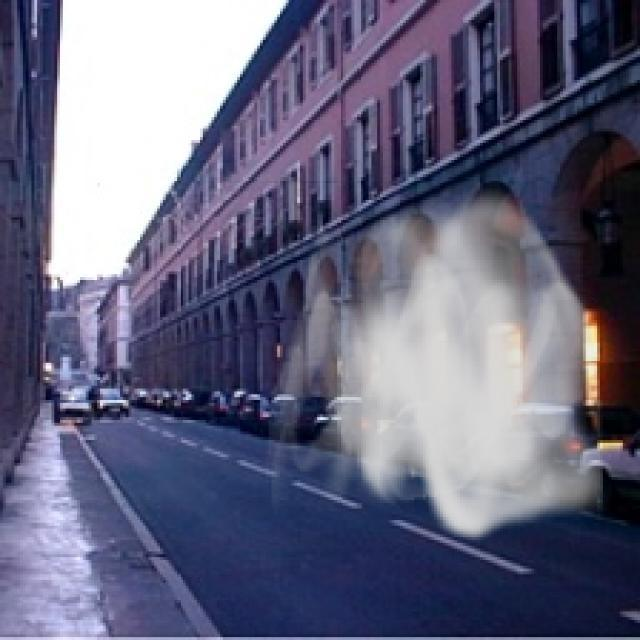Smoke: (262, 180, 614, 543)
